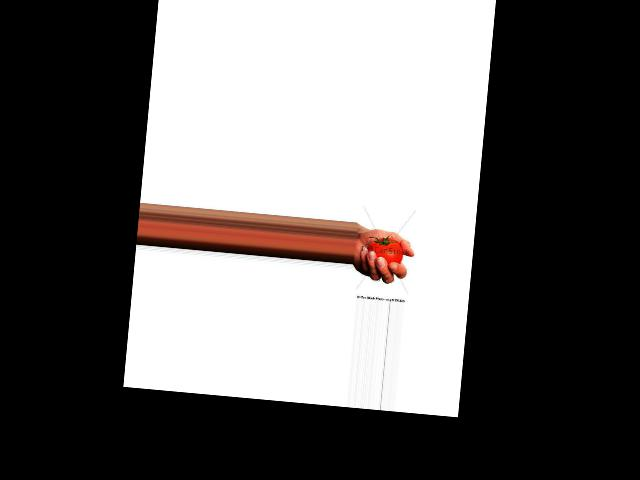tomato: (366, 236, 404, 264)
